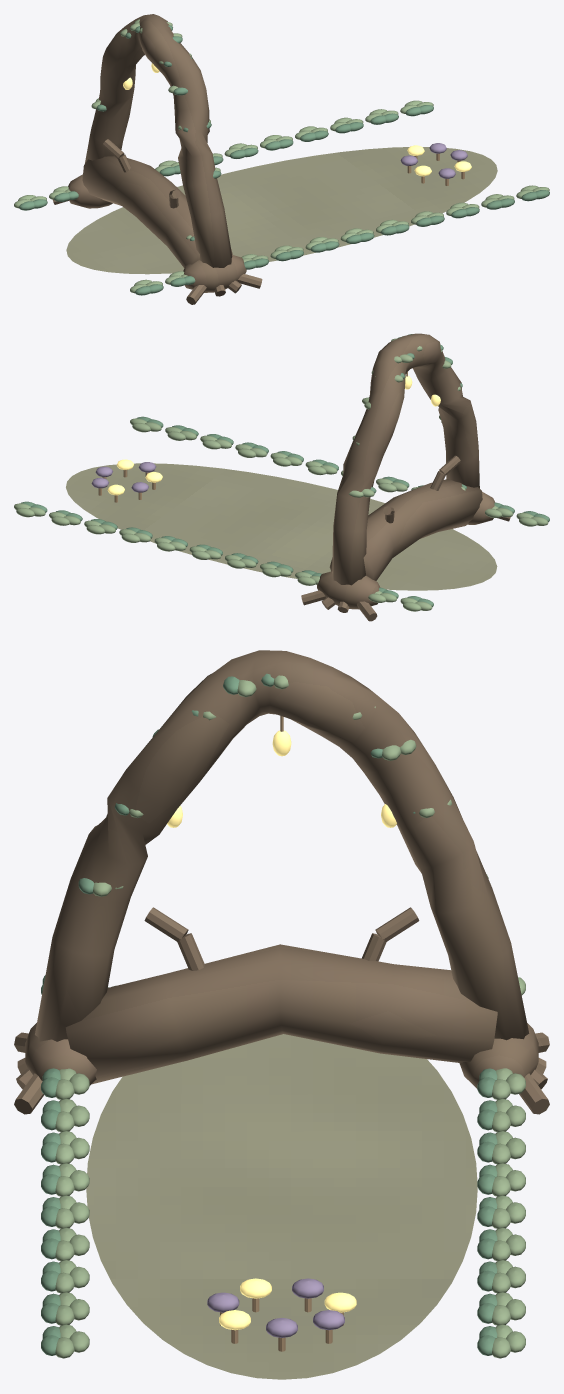
The model's file is opening-fallen-tree.glb.
3 renders of one model, top to bottom at view 1: azimuth 30°, elevation 25°; view 2: azimuth 150°, elevation 25°; view 3: azimuth 270°, elevation 25°, orthographic. The views are drawn at different scales.
Visible parts, largest first — view 1: Forest hamlet, open:fallenTree, shut:fallenTree; view 2: Forest hamlet, open:fallenTree, shut:fallenTree; view 3: Forest hamlet, open:fallenTree, shut:fallenTree.
Boxes of the visible parts, x1,y1,x2,y2 form: Forest hamlet: [14, 100, 549, 304]; open:fallenTree: [85, 14, 232, 267]; shut:fallenTree: [82, 139, 232, 267]; Forest hamlet: [14, 416, 549, 621]; open:fallenTree: [332, 333, 479, 585]; shut:fallenTree: [329, 455, 482, 580]; Forest hamlet: [14, 975, 549, 1379]; open:fallenTree: [35, 650, 529, 1041]; shut:fallenTree: [65, 907, 497, 1084].
Size of the model in its own units: 6.5 by 3.38 by 3.83.
Materials: 7 (7 with a texture image).
